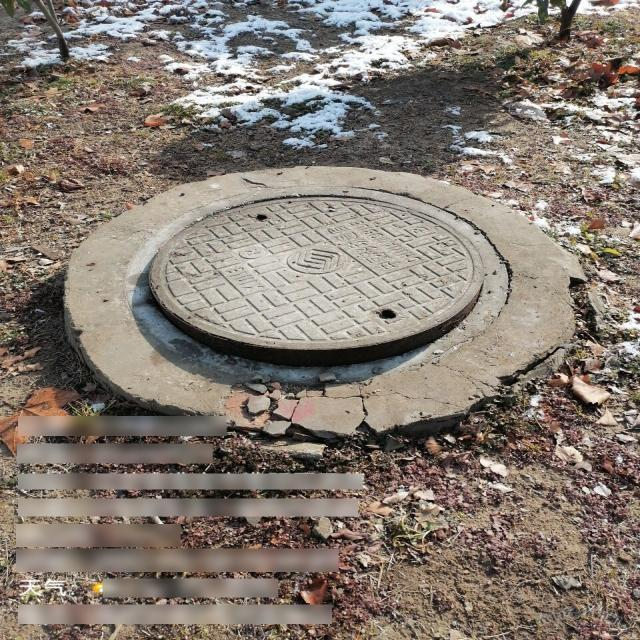Lose: (123, 185, 513, 384)
